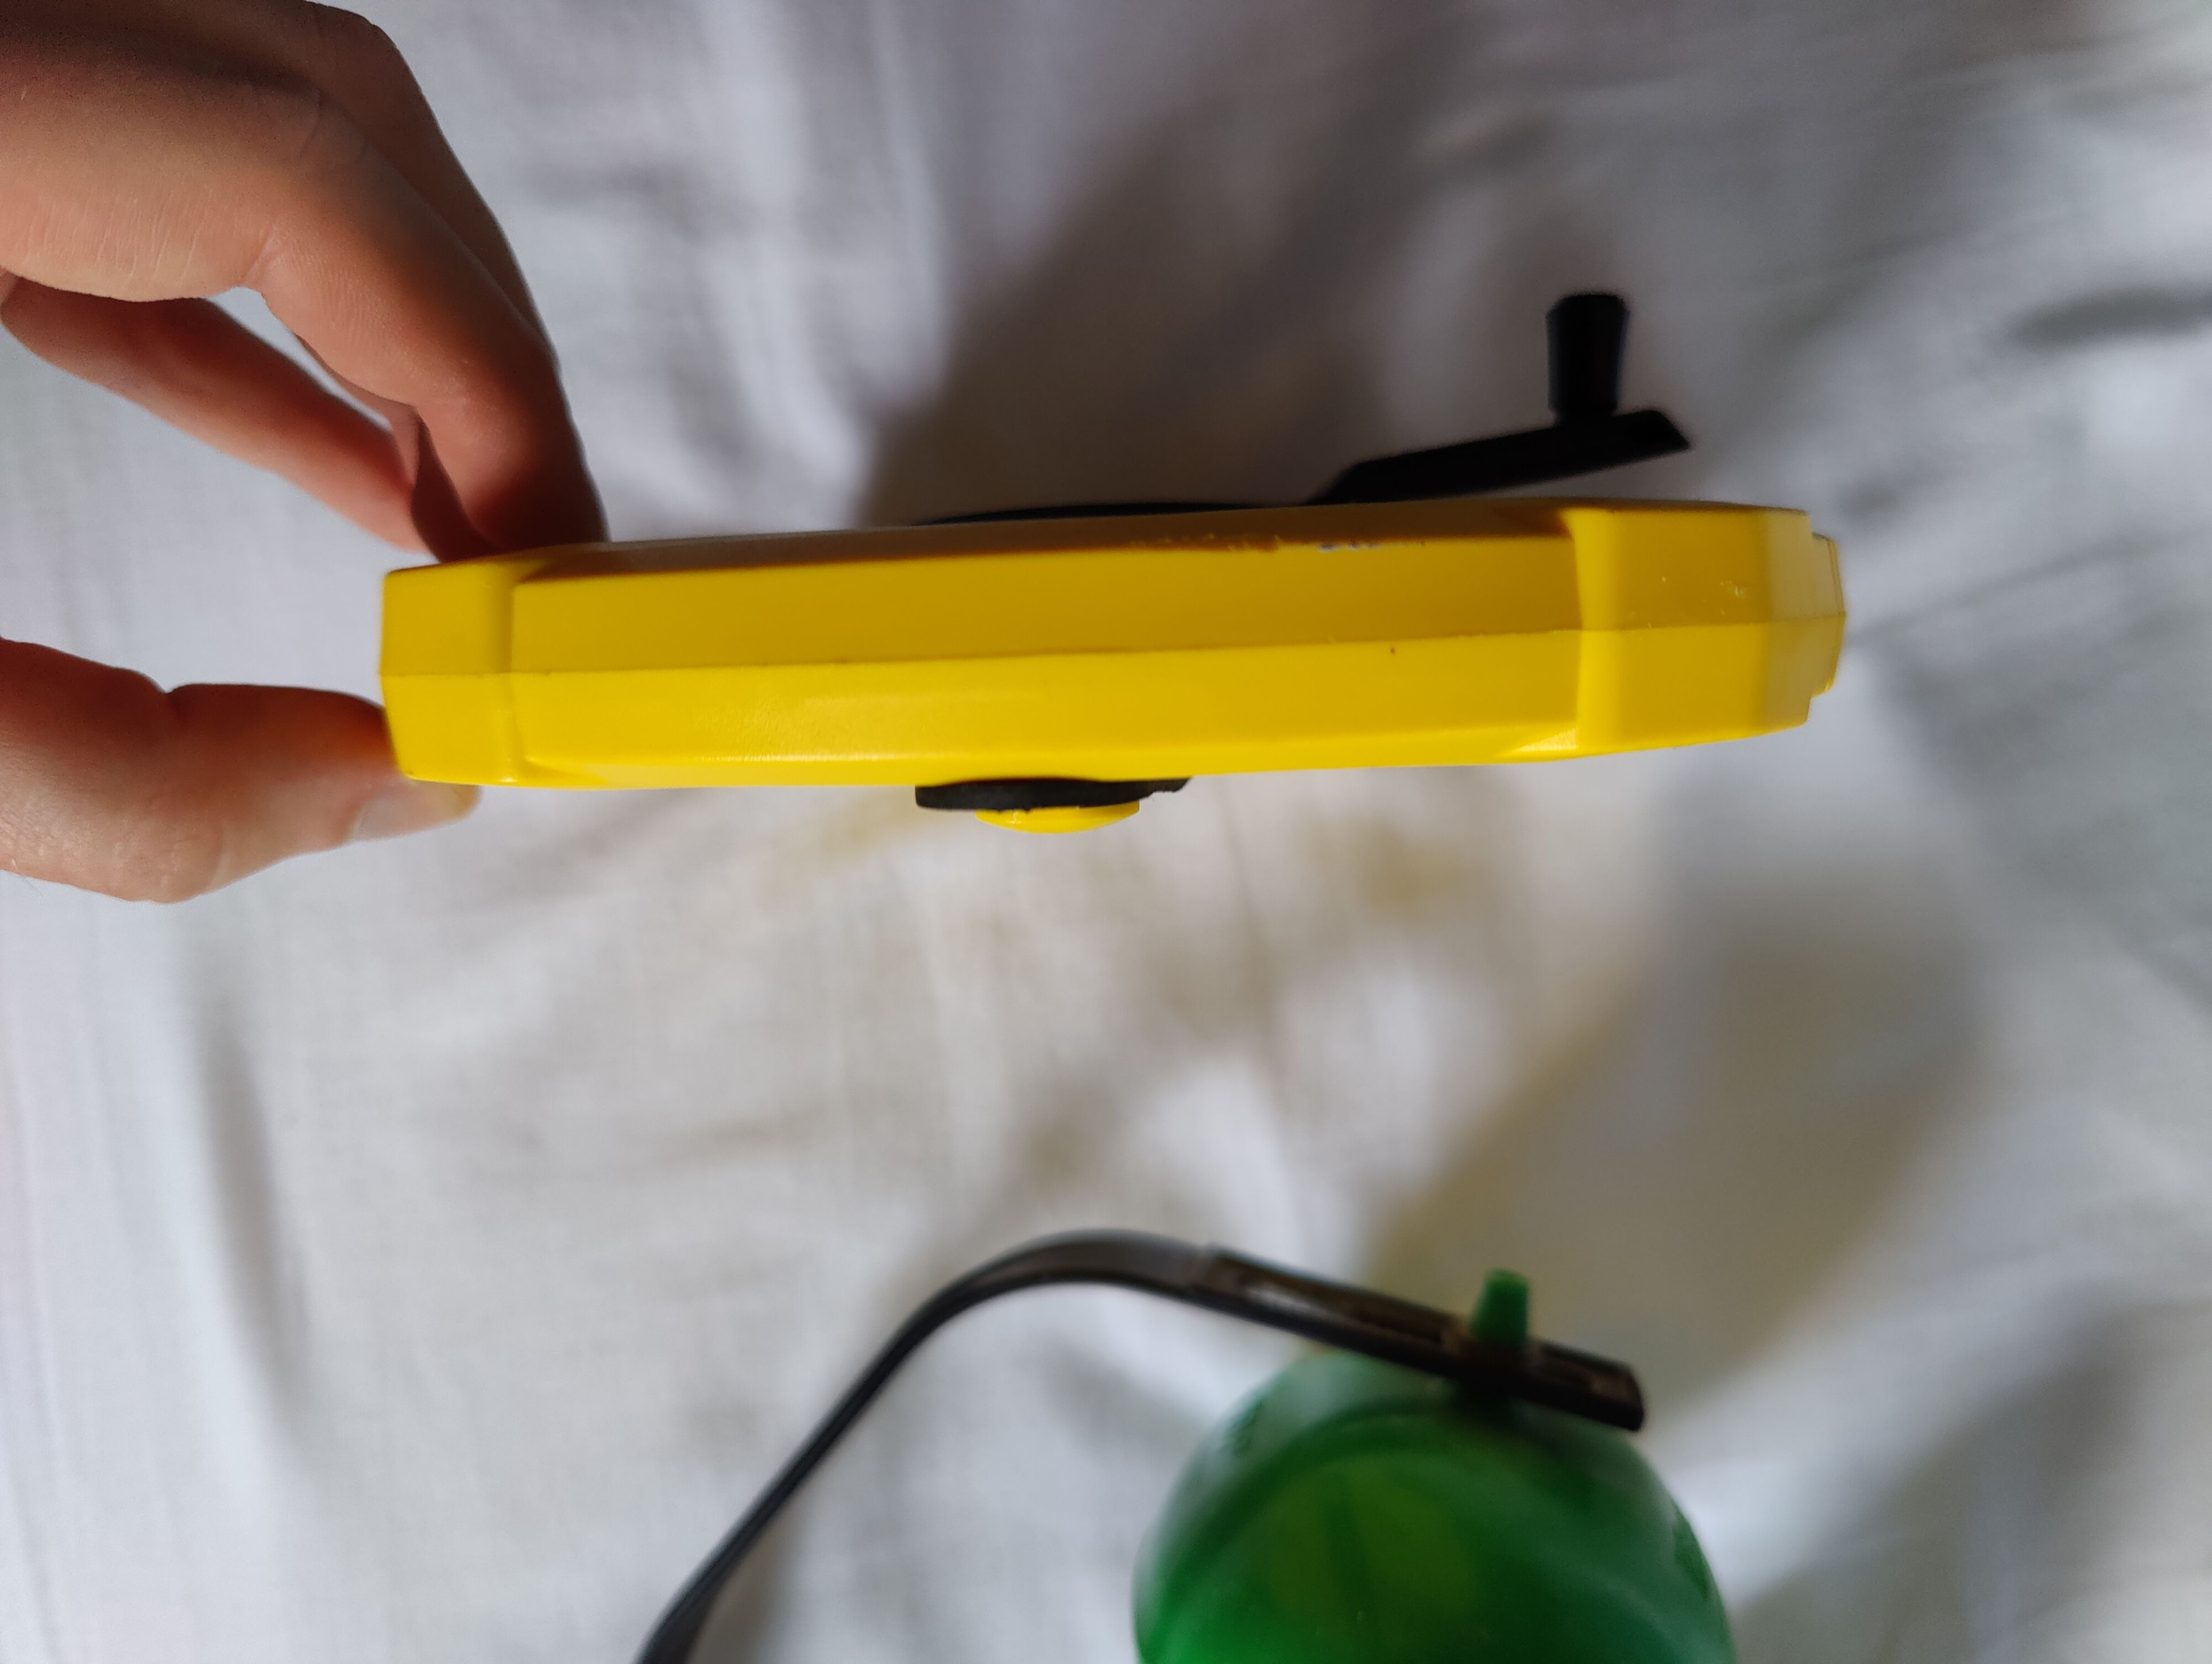headphones: (619, 1220, 1740, 1659)
tapemeasure: (377, 294, 1843, 825)
